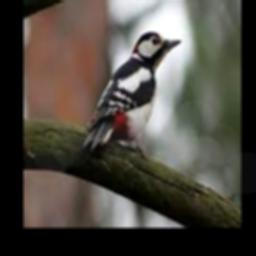Woodpecker: (82, 32, 182, 158)
